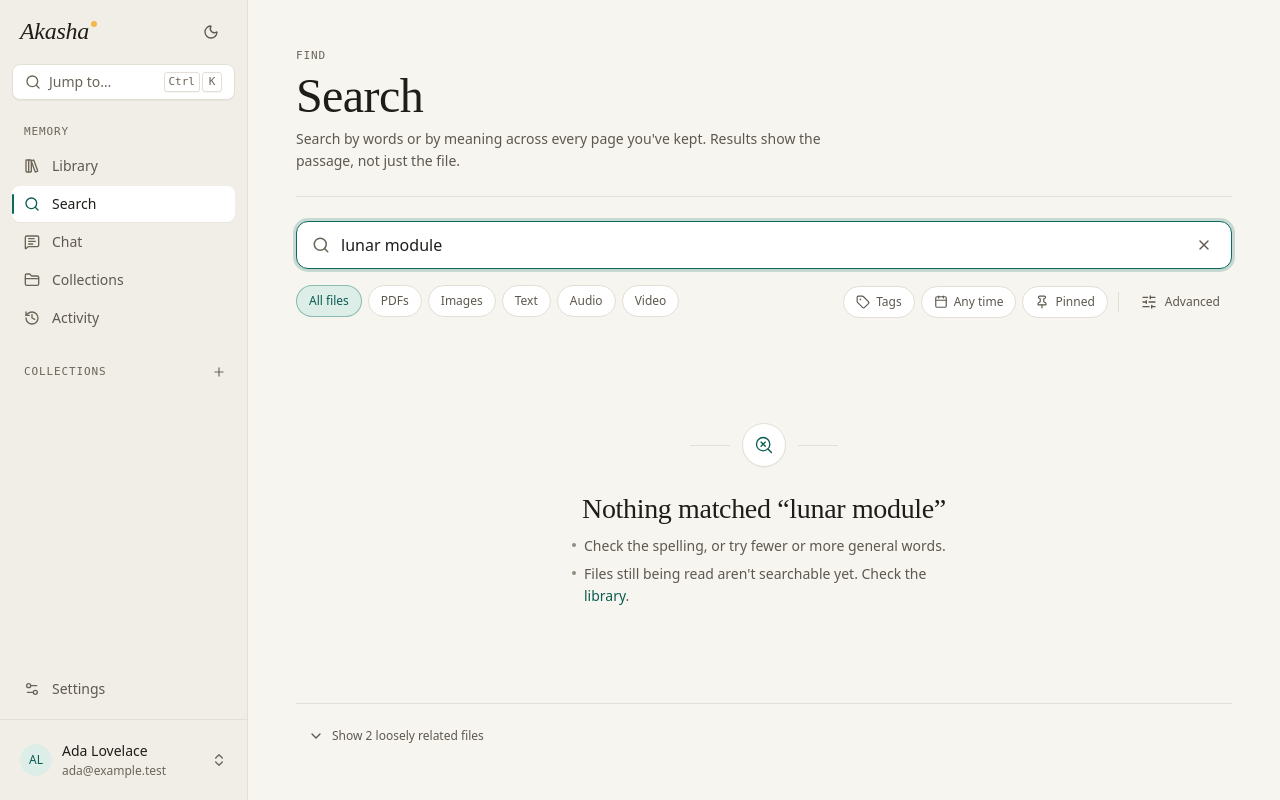
Scenario: search page › hides loosely related files until asked, then lists them apart
Check: the heading "Nothing matched “lunar module”" is shown, box [582,491,946,527]
Click the button "Show 2 loosely related files" at (396, 736), box [296,720,496,752]
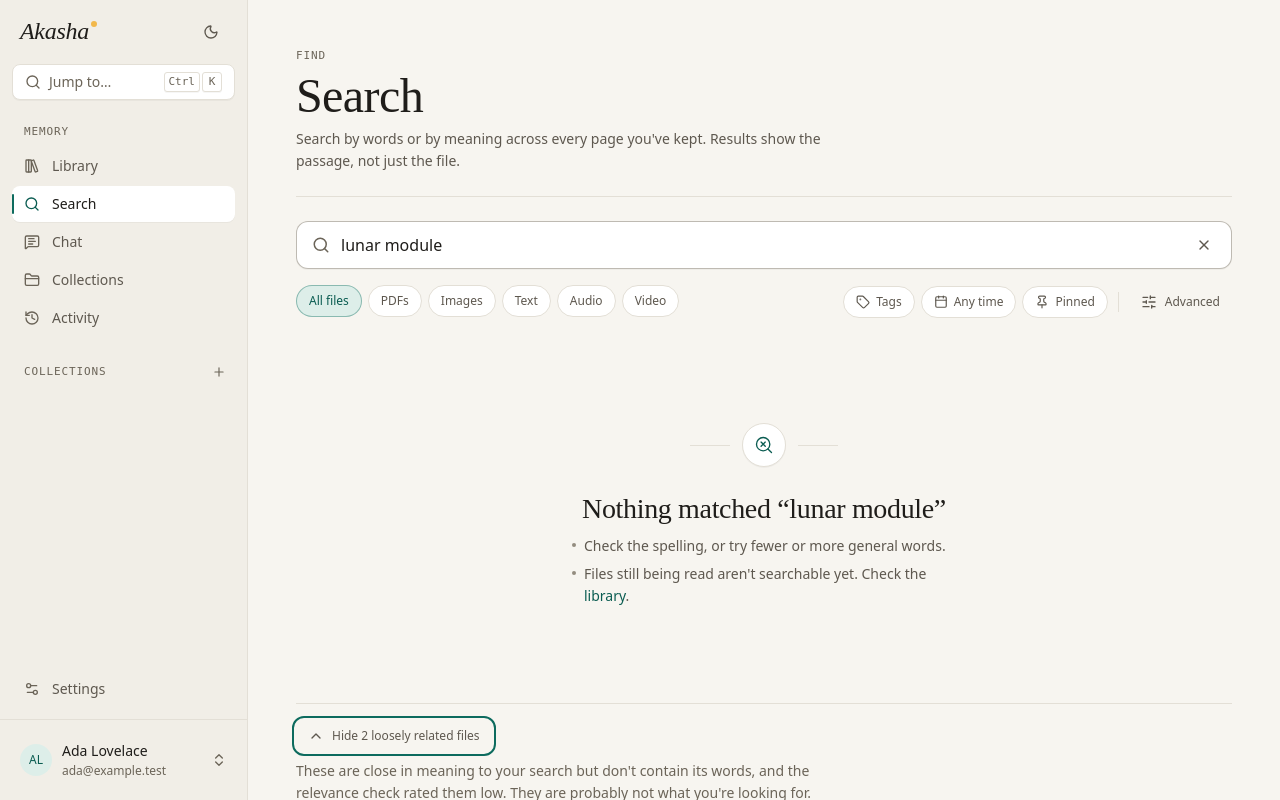
Check: the button "Hide 2 loosely related files" is expanded, box [296,720,492,752]
